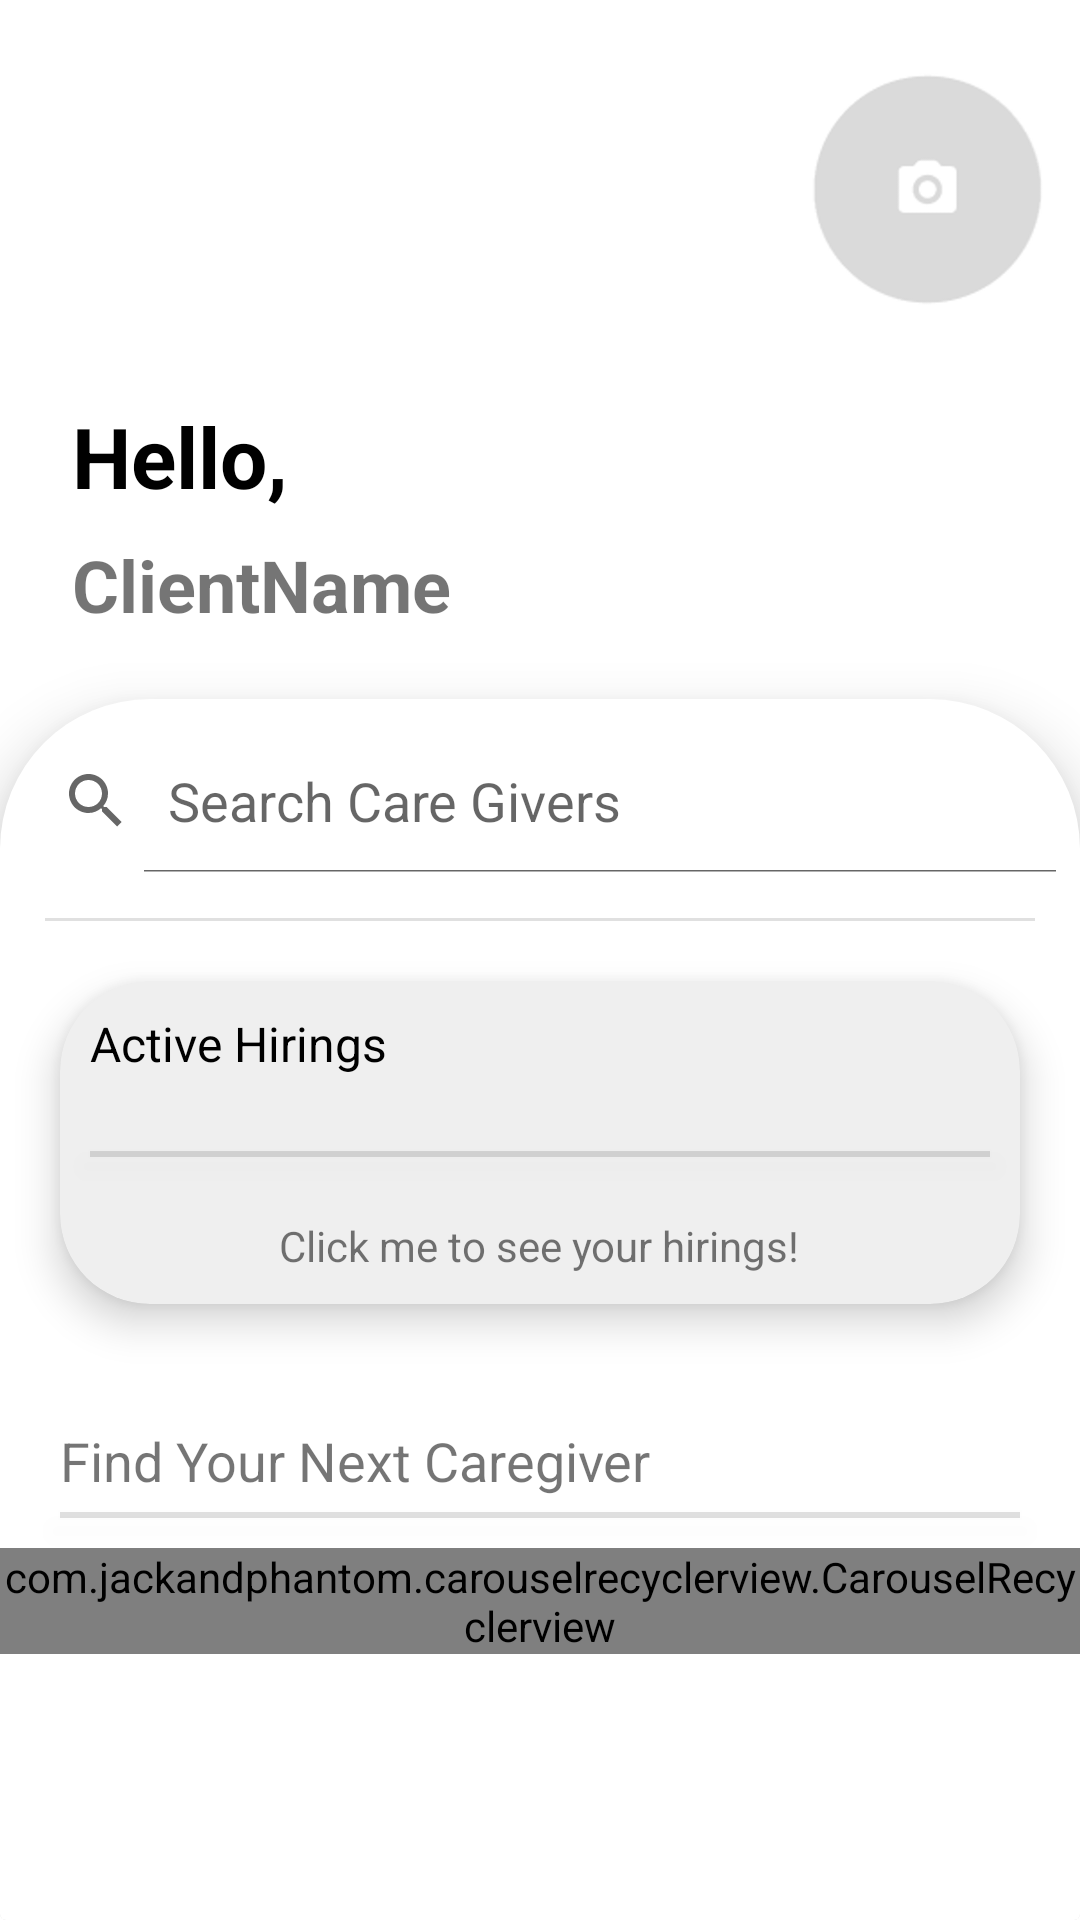

Screen size 1080px×1920px. Icon name, then its box in pixels as bbox=[x1, y1, x2, y2]:
uploaddp: bbox=[815, 76, 1041, 302]
